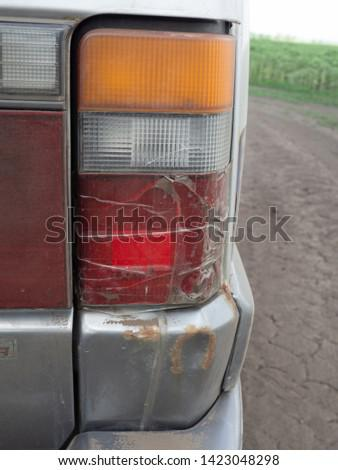Taillight-Damage: (64, 3, 237, 304)
rear-bumper-dent: (0, 281, 290, 452)
